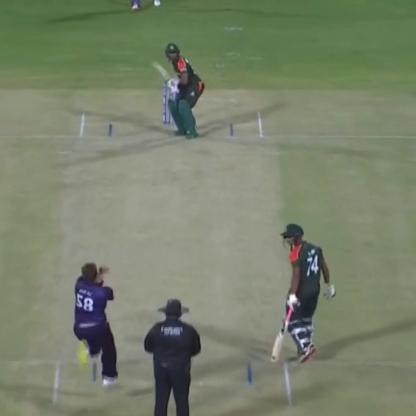bat: (268, 290, 298, 364), (151, 53, 177, 102)
pitch: (48, 90, 304, 415)
